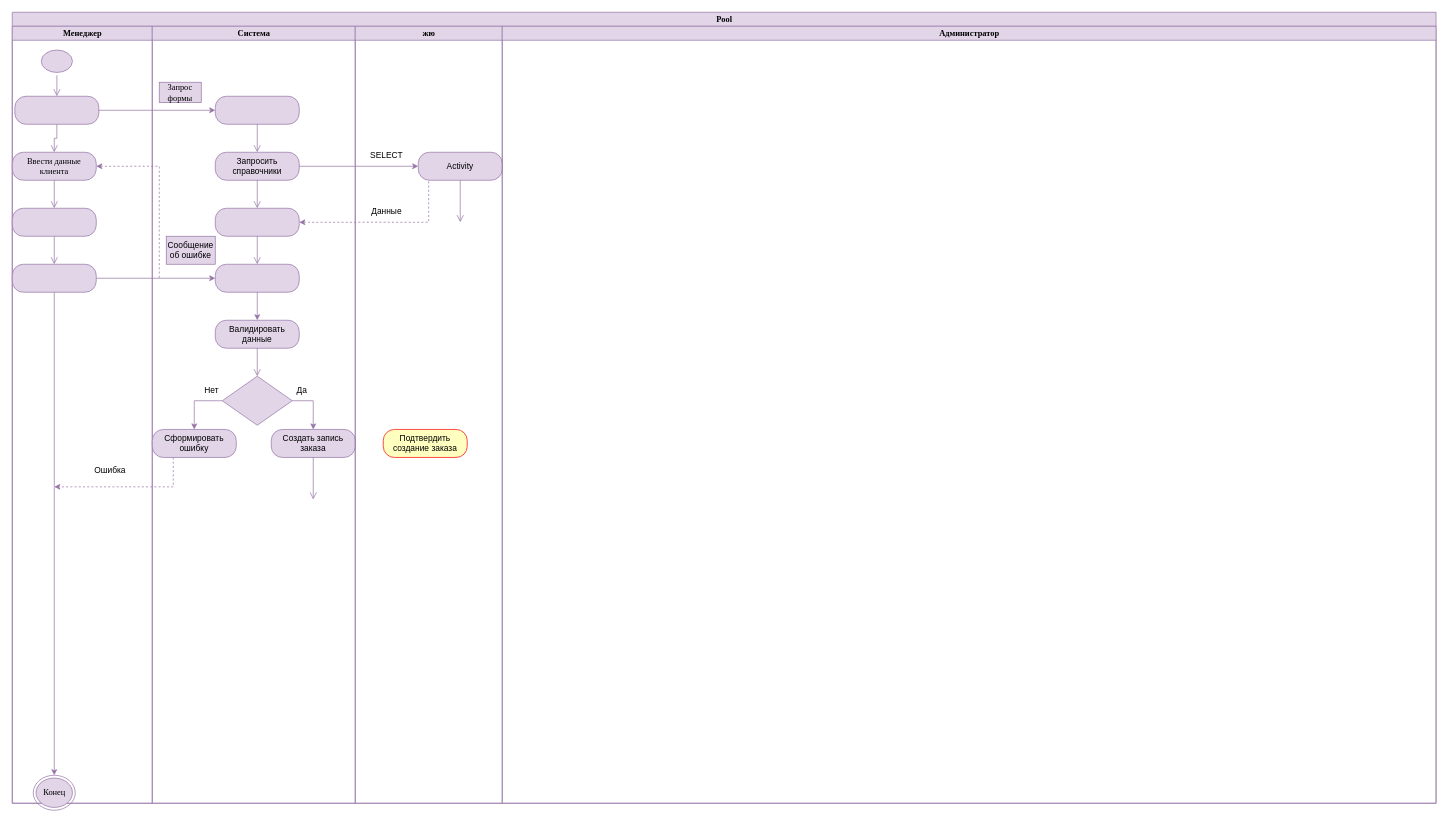
Some shapes in this 1448 by 823 pixel diagram are drawn without their labels. Each missing label, with the box of its shape:
Ввести автобус и дату: (12, 208, 96, 236)
Данные корректны?: (222, 376, 292, 425)
Нажать "Сохранить": (12, 264, 96, 292)
Открыть форму заказа: (14, 96, 99, 124)
Отобразить форму: (215, 208, 299, 236)
Принять данные: (215, 264, 299, 292)
Принять запрос на форму: (215, 96, 299, 124)
Старт: (38, 47, 75, 75)
